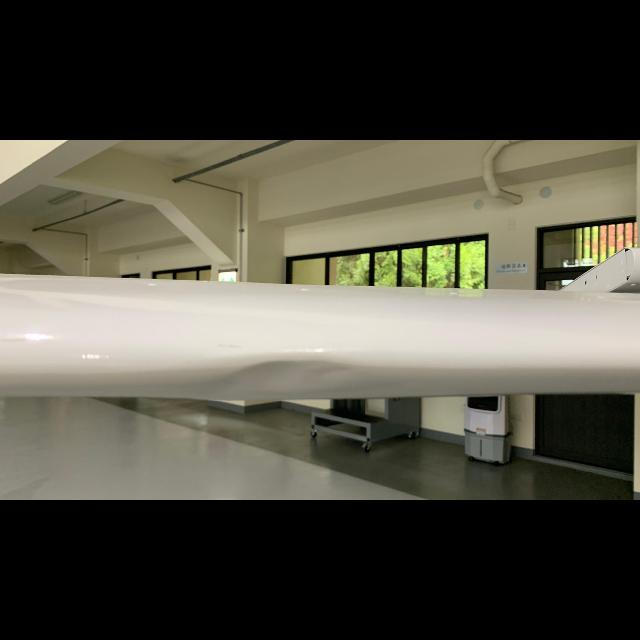dent: (195, 354, 395, 396)
